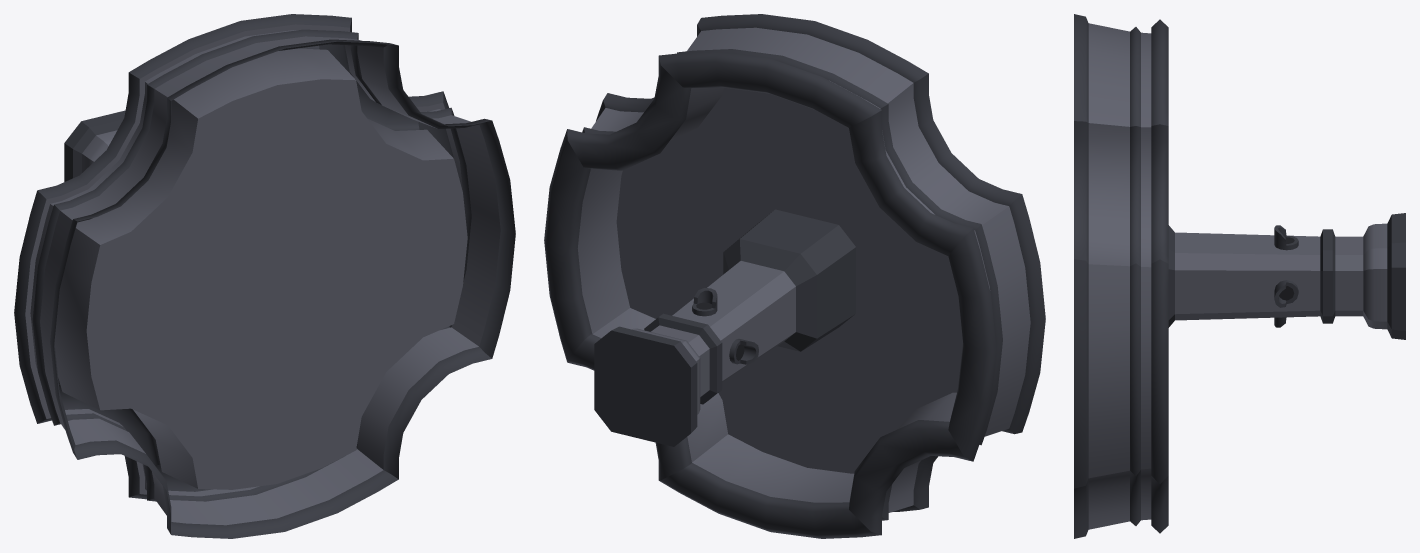
Rendered from mesh_Fountain 1.FBX.
3 renders of one model, left to right at view 1: azimuth 30°, elevation 25°; view 2: azimuth 150°, elevation 25°; view 3: azimuth 270°, elevation 25°, orthographic. The views are drawn at different scales.
Parts seen in each view (by area): view 1: mesh_Fountain; view 2: mesh_Fountain; view 3: mesh_Fountain.
Boxes of the visible parts, x1,y1,x2,y2 form: mesh_Fountain: (14, 14, 515, 538); mesh_Fountain: (544, 14, 1045, 538); mesh_Fountain: (1074, 14, 1405, 538).
Size of the model in its own units: 680 by 680 by 440.
